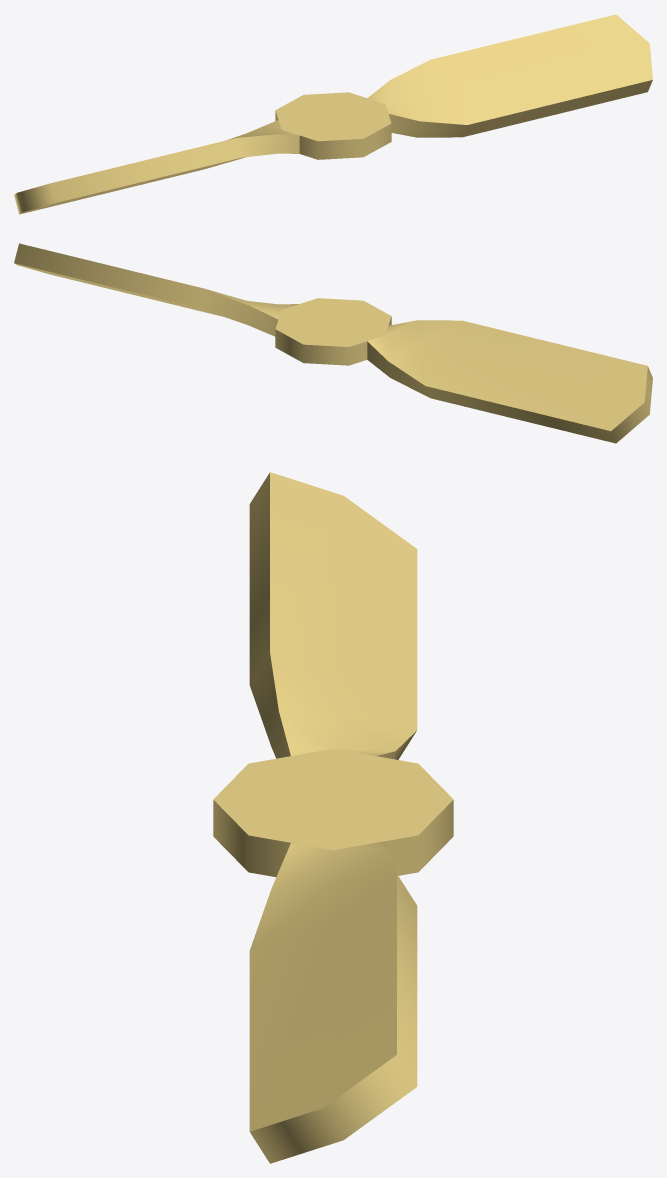
File: D_FBX_11_Wind_B.fbx
3 renders of one model, top to bottom at view 1: azimuth 30°, elevation 25°; view 2: azimuth 150°, elevation 25°; view 3: azimuth 270°, elevation 25°, orthographic. The views are drawn at different scales.
Visible parts, largest first — view 1: D_FBX_11_Wind_B; view 2: D_FBX_11_Wind_B; view 3: D_FBX_11_Wind_B.
Boxes of the visible parts, box(x1,y1,x2,y2) form: D_FBX_11_Wind_B: box(14, 14, 652, 214); D_FBX_11_Wind_B: box(14, 243, 652, 443); D_FBX_11_Wind_B: box(213, 472, 453, 1163).
Size of the model in its own units: 1.95 by 0.1621 by 0.3237.
